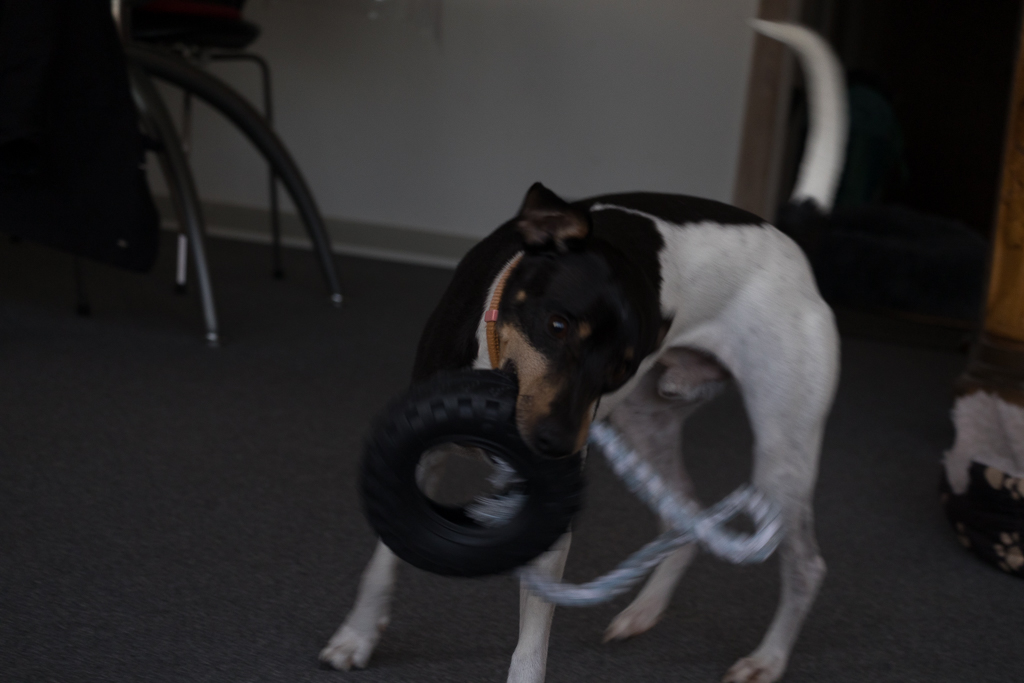Dog: (308, 9, 857, 683)
